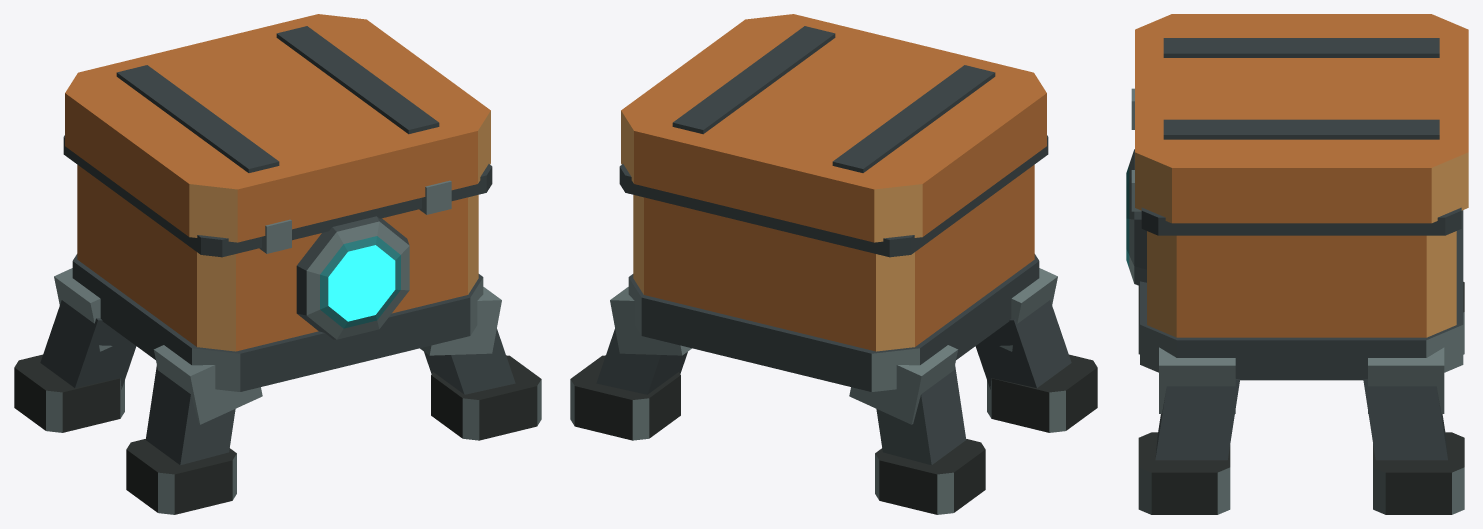
Rendered from wsc-actor-001-crate-mite-study.glb.
3 renders of one model, left to right at view 1: azimuth 30°, elevation 25°; view 2: azimuth 150°, elevation 25°; view 3: azimuth 270°, elevation 25°, orthographic. The views are drawn at different scales.
Visible parts, largest first — view 1: Orange clamp lid, Single canted-wall crate shell, Rigid charcoal bumper, Sealed octagonal eye stack, Chamfered industrial foot, Chamfered industrial foot.002, Chamfered industrial foot.001, Angled pressure leg.001, Angled pressure leg, Flat restraint strap, Flat restraint strap.001, Lid edge seam (+6 smaller); view 2: Orange clamp lid, Single canted-wall crate shell, Rigid charcoal bumper, Chamfered industrial foot.001, Chamfered industrial foot.003, Chamfered industrial foot, Lid edge seam, Angled pressure leg, Angled pressure leg.001, Flat restraint strap, Flat restraint strap.001, Four short joint collars.001 (+3 smaller); view 3: Orange clamp lid, Single canted-wall crate shell, Rigid charcoal bumper, Flat restraint strap.001, Chamfered industrial foot.002, Angled pressure leg.002, Angled pressure leg.003, Flat restraint strap, Chamfered industrial foot.003, Lid edge seam, Four short joint collars.003, Four short joint collars.002 (+1 smaller).
Part boxes in pixels (x1=…): Orange clamp lid: x1=65, y1=14, x2=490, y2=242; Single canted-wall crate shell: x1=77, y1=165, x2=478, y2=351; Rigid charcoal bumper: x1=72, y1=254, x2=483, y2=391; Sealed octagonal eye stack: x1=296, y1=216, x2=409, y2=339; Chamfered industrial foot: x1=126, y1=439, x2=236, y2=514; Chamfered industrial foot.002: x1=431, y1=355, x2=541, y2=440; Chamfered industrial foot.001: x1=14, y1=354, x2=124, y2=432; Angled pressure leg.001: x1=40, y1=300, x2=136, y2=389; Angled pressure leg: x1=145, y1=365, x2=235, y2=465; Flat restraint strap: x1=116, y1=65, x2=279, y2=172; Flat restraint strap.001: x1=276, y1=26, x2=439, y2=134; Lid edge seam: x1=63, y1=135, x2=492, y2=257; Orange clamp lid: x1=621, y1=14, x2=1046, y2=242; Single canted-wall crate shell: x1=633, y1=165, x2=1034, y2=351; Rigid charcoal bumper: x1=628, y1=254, x2=1039, y2=391; Chamfered industrial foot.001: x1=875, y1=439, x2=985, y2=514; Chamfered industrial foot.003: x1=570, y1=355, x2=680, y2=440; Chamfered industrial foot: x1=987, y1=354, x2=1097, y2=432; Lid edge seam: x1=619, y1=135, x2=1048, y2=257; Angled pressure leg: x1=975, y1=300, x2=1071, y2=389; Angled pressure leg.001: x1=876, y1=365, x2=966, y2=465; Flat restraint strap: x1=832, y1=65, x2=995, y2=172; Flat restraint strap.001: x1=672, y1=26, x2=835, y2=134; Four short joint collars.001: x1=849, y1=345, x2=958, y2=424; Orange clamp lid: x1=1135, y1=14, x2=1468, y2=223; Single canted-wall crate shell: x1=1147, y1=231, x2=1456, y2=337; Rigid charcoal bumper: x1=1140, y1=210, x2=1463, y2=380; Flat restraint strap.001: x1=1163, y1=119, x2=1439, y2=139; Chamfered industrial foot.002: x1=1138, y1=432, x2=1230, y2=514; Angled pressure leg.002: x1=1155, y1=379, x2=1239, y2=460; Angled pressure leg.003: x1=1363, y1=379, x2=1447, y2=460; Flat restraint strap: x1=1163, y1=38, x2=1439, y2=57; Chamfered industrial foot.003: x1=1373, y1=432, x2=1464, y2=514; Lid edge seam: x1=1141, y1=207, x2=1461, y2=235; Four short joint collars.003: x1=1368, y1=347, x2=1444, y2=413; Four short joint collars.002: x1=1159, y1=347, x2=1235, y2=413.
Size of the model in its own units: 0.763 by 0.601 by 0.564.
